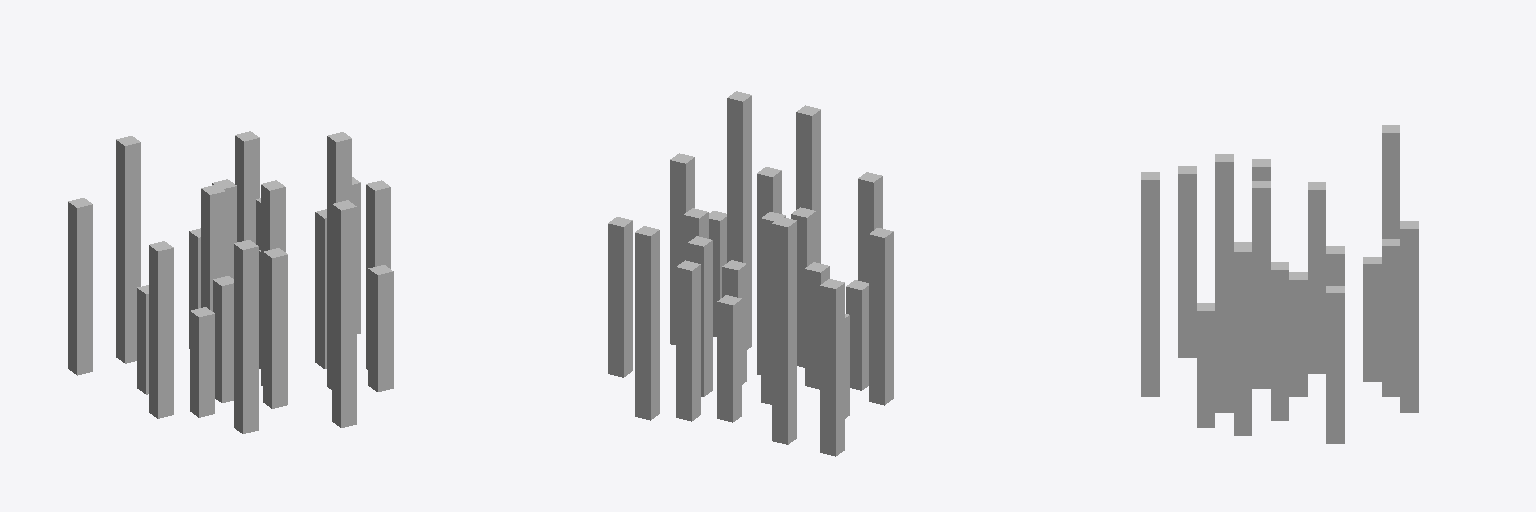
Rendered from grass.obj.
The picture shows the model from 3 angles: view 1: azimuth 30°, elevation 25°; view 2: azimuth 150°, elevation 25°; view 3: azimuth 270°, elevation 25°; orthographic projection.
Parts seen in each view (by area): view 1: object 1; view 2: object 1; view 3: object 1.
Part boxes in pixels (bbox=[...]): object 1: bbox=[68, 131, 393, 433]; object 1: bbox=[608, 91, 893, 456]; object 1: bbox=[1141, 125, 1418, 443].
Bounding box in the file's own units: 1.6 × 1.5 × 1.5.